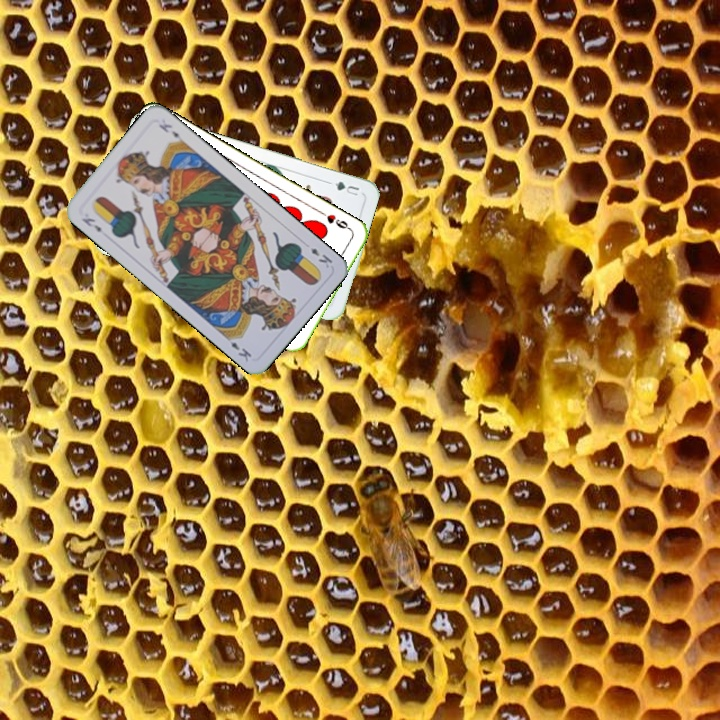EK: (306, 244, 335, 271), (78, 214, 104, 235)
GU: (331, 177, 362, 198)
H9: (317, 208, 354, 234)
